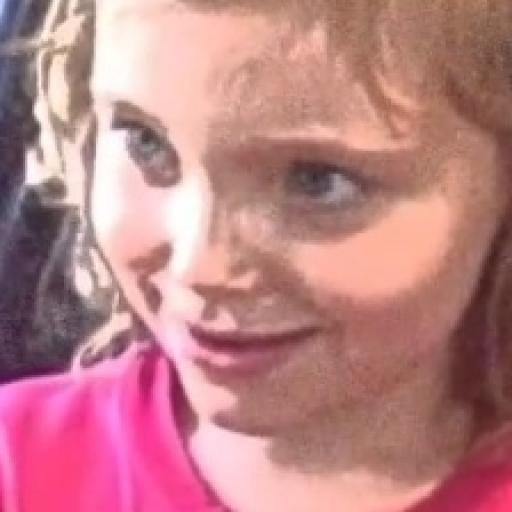Autism: (39, 7, 512, 500)
